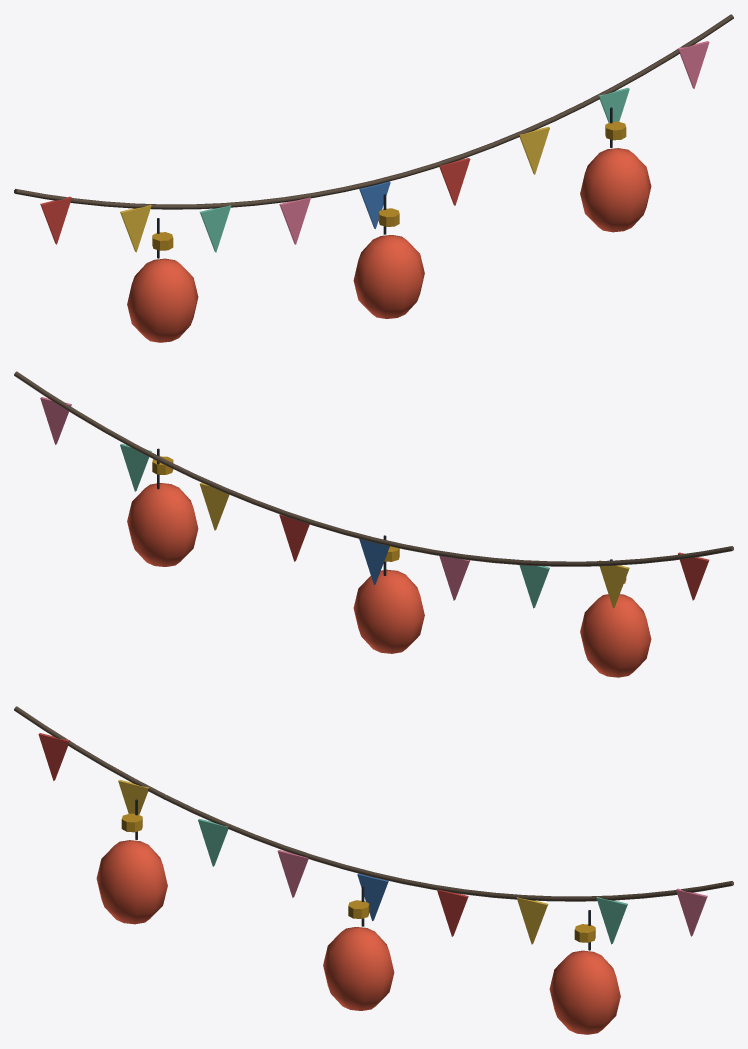
File: overlay_1.fbx
3 views of the same model, one above another, from view 1: azimuth 30°, elevation 25°; view 2: azimuth 150°, elevation 25°; view 3: azimuth 330°, elevation 25° (orthographic).
Visible parts, largest first — view 1: overlay_1; view 2: overlay_1; view 3: overlay_1.
Part boxes in pixels (x1,y1,x2,y2): overlay_1: (14,14,733,342); overlay_1: (14,371,733,677); overlay_1: (14,706,733,1034).
Size of the model in its own units: 3.81 by 1.03 by 0.306.
